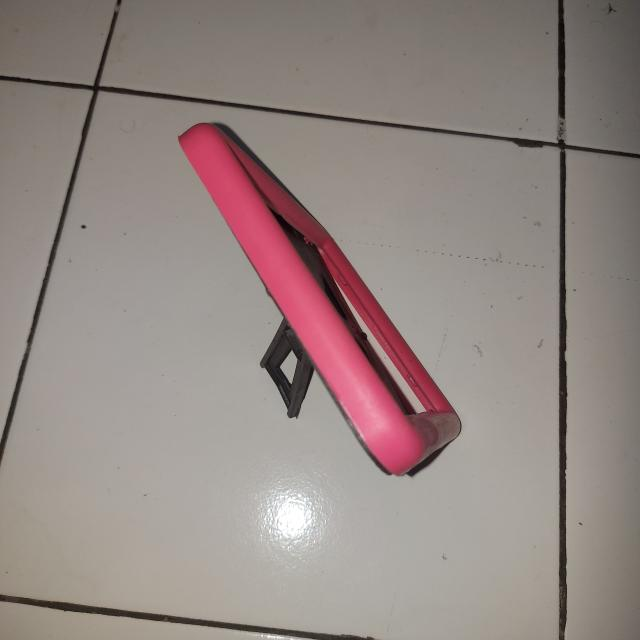Anorganik: (170, 120, 469, 479)
